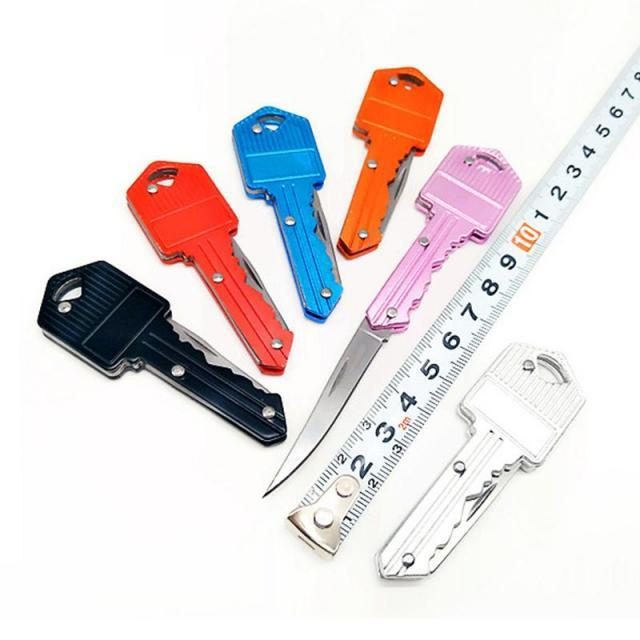Knife: (260, 312, 393, 499)
